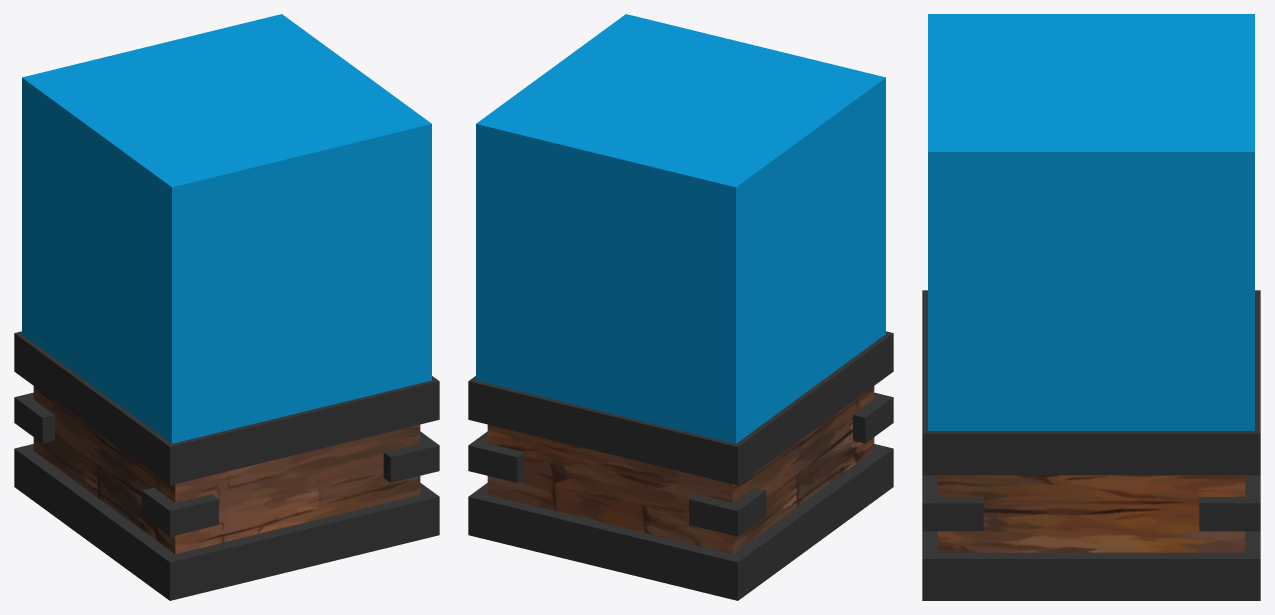
Rendered from MuseumBox.fbx.
3 views of the same model, side by side, from view 1: azimuth 30°, elevation 25°; view 2: azimuth 150°, elevation 25°; view 3: azimuth 270°, elevation 25° (orthographic). The views are drawn at different scales.
Parts seen in each view (by area): view 1: DisplayGlass, DisplayMetal, DisplayWood; view 2: DisplayGlass, DisplayMetal, DisplayWood; view 3: DisplayGlass, DisplayMetal, DisplayWood.
Part boxes in pixels (x1,y1,x2,y2): DisplayGlass: (22,14,431,443); DisplayMetal: (14,331,439,600); DisplayWood: (33,386,420,554); DisplayGlass: (476,14,885,443); DisplayMetal: (468,331,893,600); DisplayWood: (487,386,874,554); DisplayGlass: (928,14,1254,430); DisplayMetal: (922,290,1260,600); DisplayWood: (937,475,1245,552).
Size of the model in its own units: 220 by 320 by 220.
